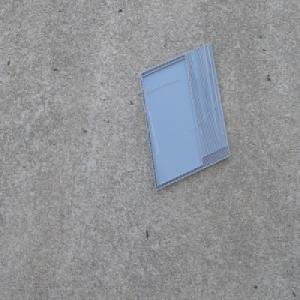PlasticPart: (138, 41, 230, 192)
